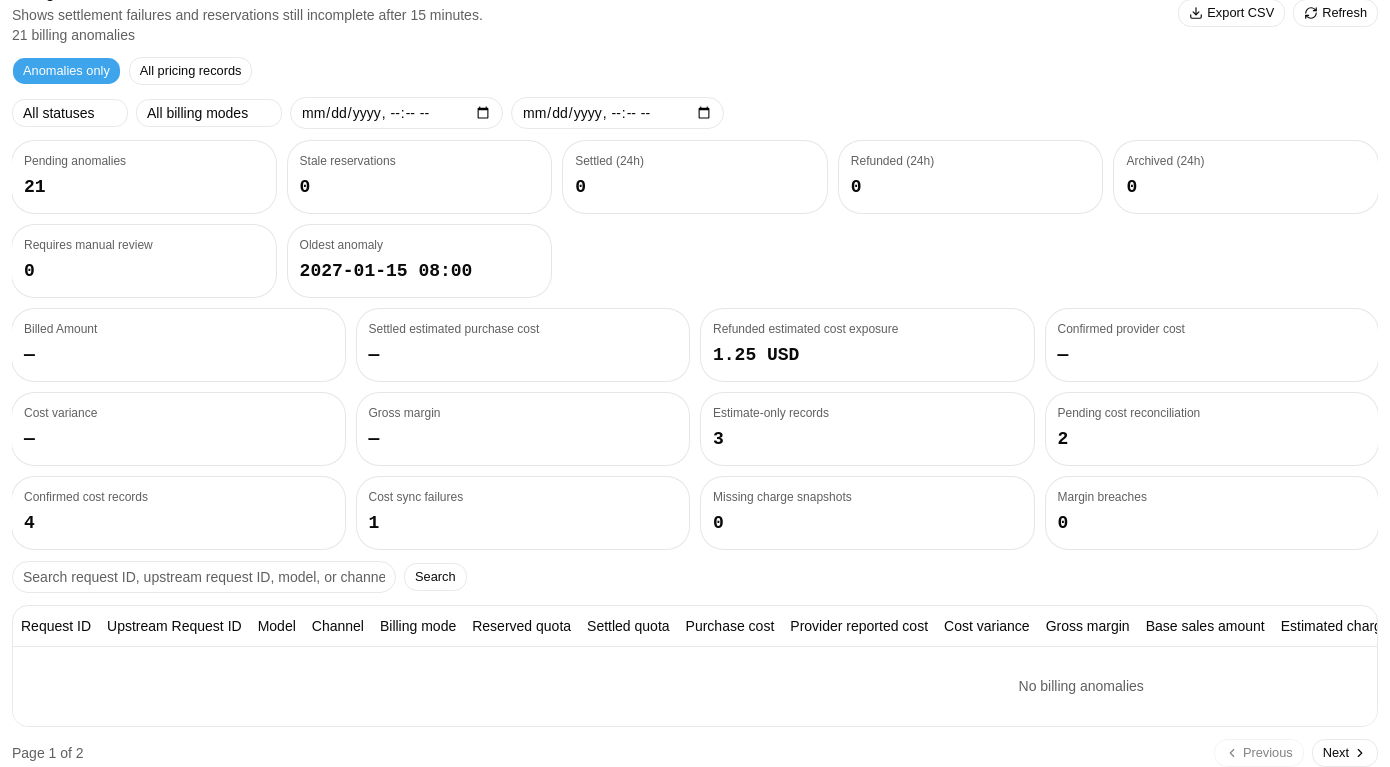
Test case: loads the next reconciliation page and exposes navigation state
The image size is (1390, 767).
(page scrolled)
Expected: the button "Previous" is disabled, top-left (1214, 739), bottom-right (1304, 766)
Expected: the text "Page 1 of 2" is shown, top-left (12, 743), bottom-right (84, 763)
What coordinates should you click on to do the following:
click the button "Next"
I would click on:
 (1345, 753)
Its box is top-left (1312, 739), bottom-right (1378, 766).
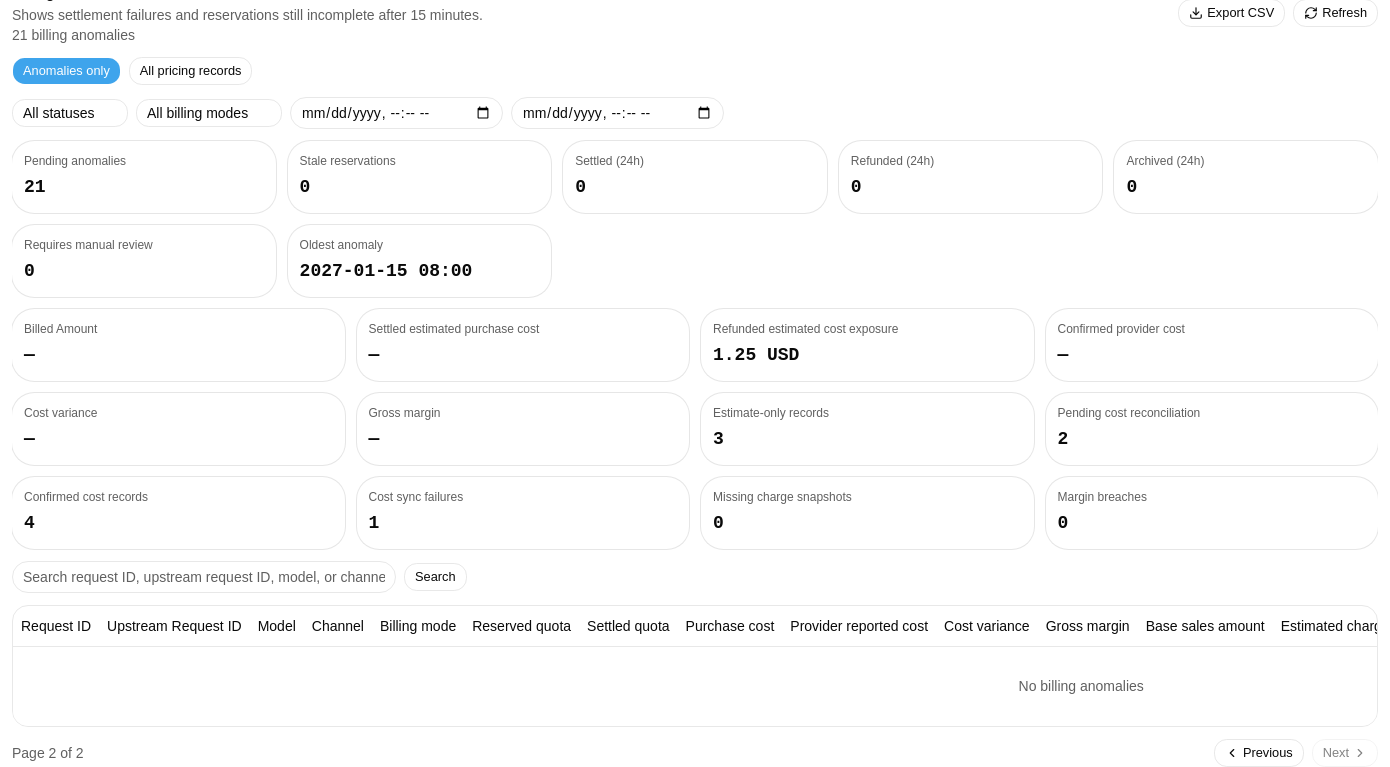
Expected: the text "Page 2 of 2" is shown, top-left (12, 743), bottom-right (84, 763)
Expected: the button "Previous" is enabled, top-left (1214, 739), bottom-right (1304, 766)
Expected: the button "Next" is disabled, top-left (1312, 739), bottom-right (1378, 766)
